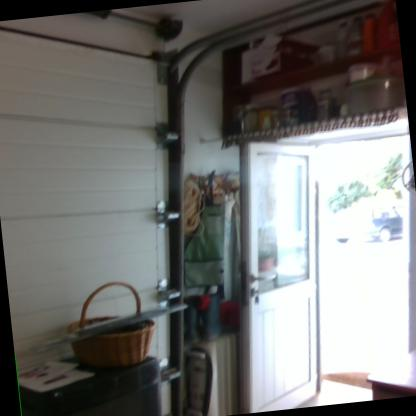open: (220, 114, 415, 413)
